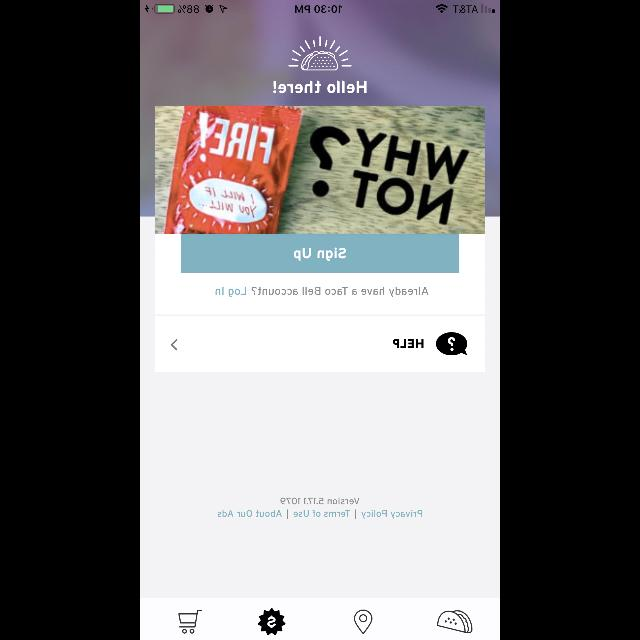icon: (257, 608, 285, 636), (436, 332, 466, 356), (178, 610, 202, 634), (353, 610, 372, 634), (170, 340, 178, 350)
image: (156, 106, 484, 234), (289, 36, 351, 70), (437, 610, 473, 634)
text: (216, 286, 428, 298), (218, 509, 422, 519), (274, 80, 366, 94), (280, 498, 360, 504), (392, 339, 423, 349)
textbutton: (181, 234, 459, 272)
uppertaskbar: (140, 0, 500, 14)
